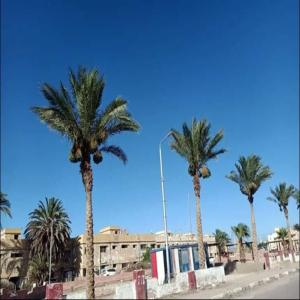palm tree: (29, 64, 141, 299), (169, 116, 229, 268), (225, 152, 273, 261), (23, 195, 72, 284), (266, 181, 297, 262), (231, 222, 250, 262)
